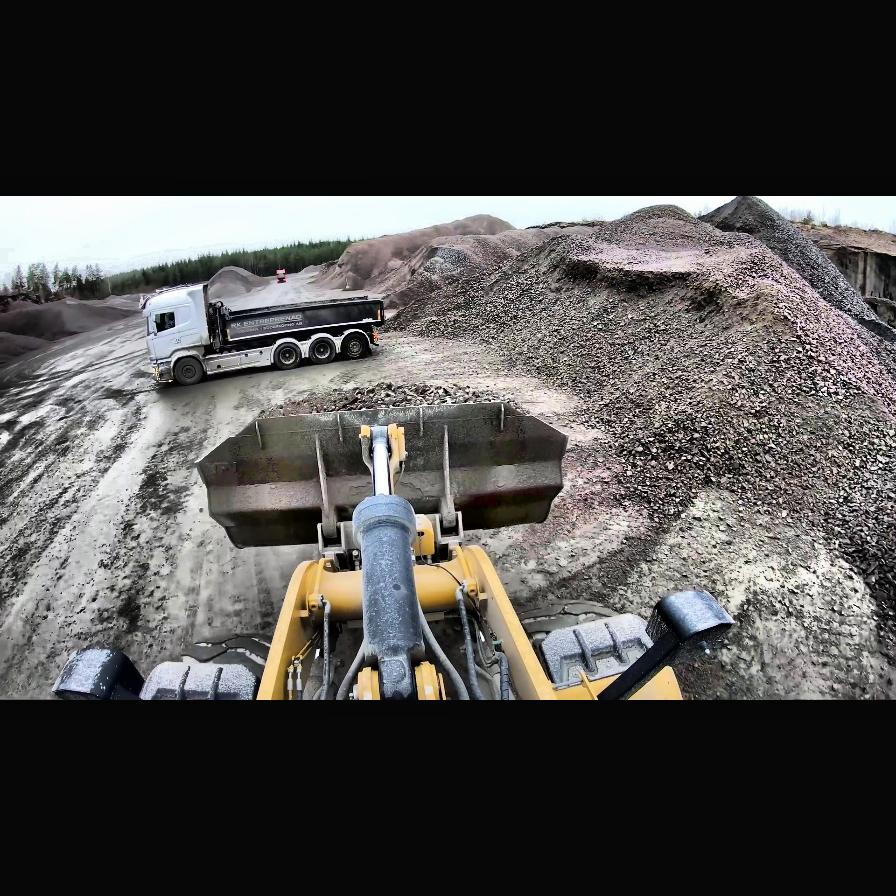anchor: (359, 424, 407, 494)
pile of gravel: (374, 204, 895, 602), (326, 215, 508, 303), (0, 294, 136, 358), (202, 265, 272, 297)
